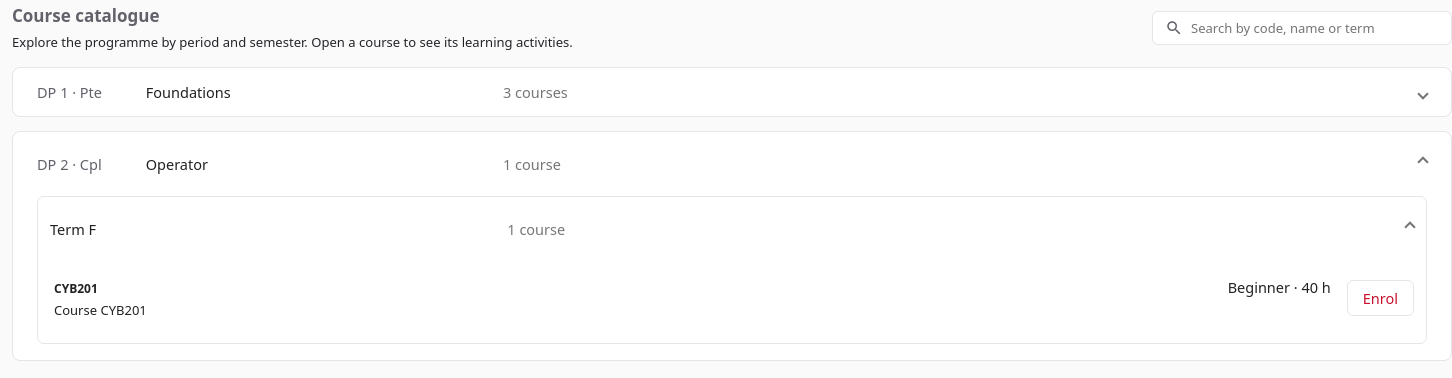
Scenario: CourseCatalogueComponent › Enrol › POSTs /courses/{id}/enroll for myself and shows Enrolled once the server confirms
Type "CST101" into the search field with placeholder "Search by code, name or term".
click(1314, 28); type("CST101")  # box [1189, 18, 1439, 38]
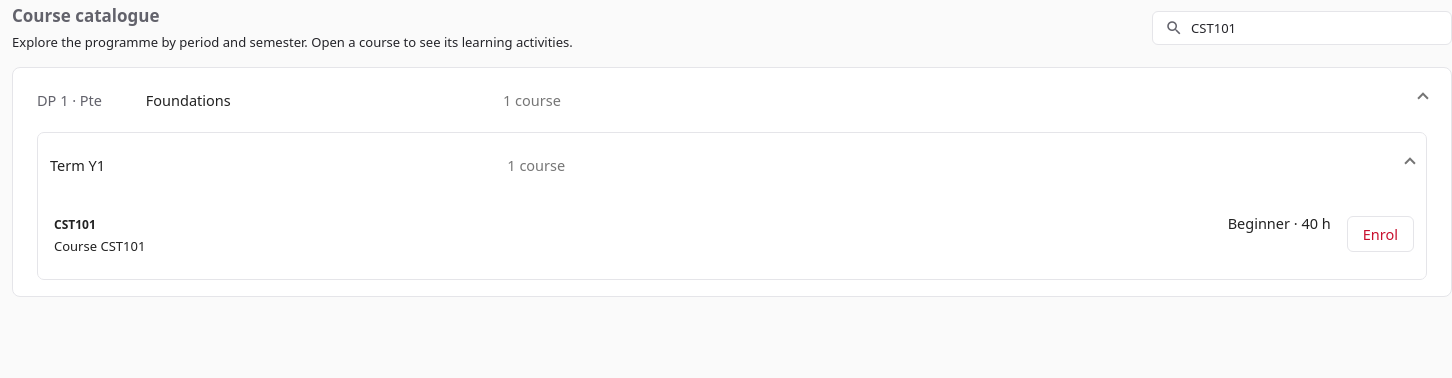
Click the button with test id "enrol" showing "Enrol".
click(1380, 234)  # box [1347, 216, 1414, 252]
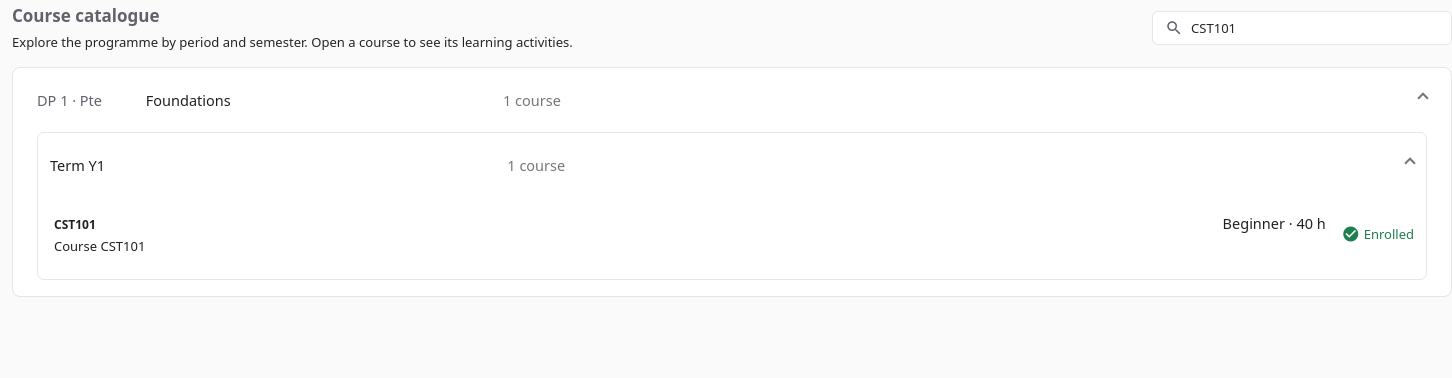
Now the element with test id "enrolled" is shown, box [1342, 225, 1414, 243]
